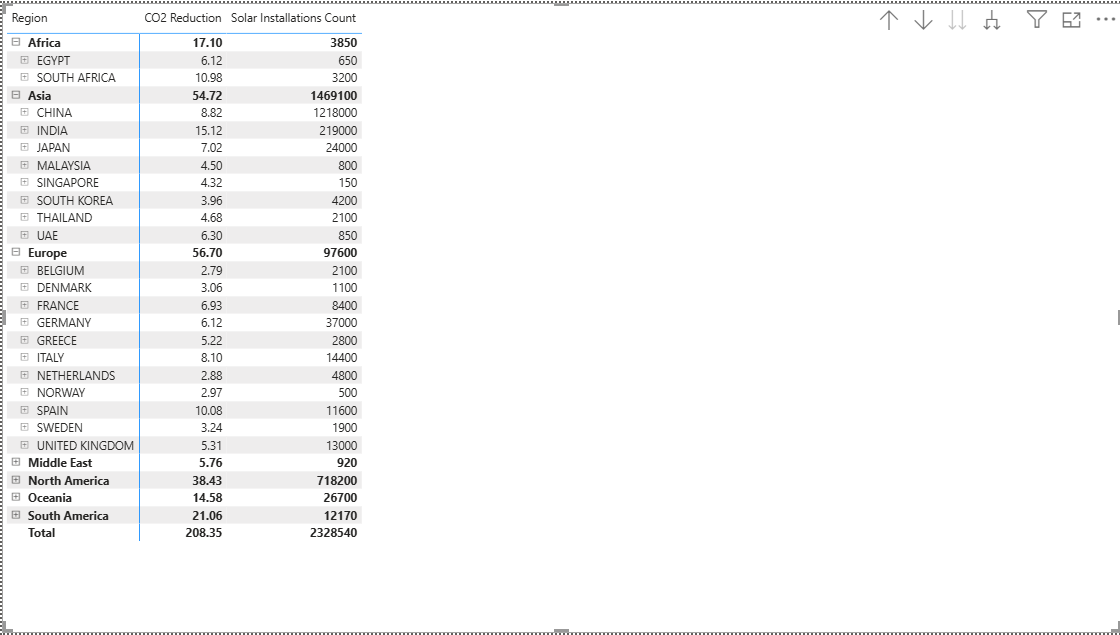

This screenshot's page, from the dashboard's own definition file:
{"tool":"powerbi","page":{"name":"Matrix Visual","canvas":[1280,720],"ordinal":3},"visuals":[{"type":"pivotTable","fields":{"Rows":["solar_project solar_energy_worldwide.Region","solar_project solar_energy_worldwide.Country","solar_project solar_energy_worldwide.City"],"Values":["Sum(solar_project solar_energy_worldwide.CO2_Reduction_Tons_per_Year)","Sum(solar_project solar_energy_worldwide.Solar_Installations_Count)"]},"box":[0,0,1280,455.7],"z":0}]}

Visuals, with their boxes on the page's 1280x720 design canvas (x1, y1, x2, y2). These are canvas units, not pixel positions in the 1120x635 screenshot, which may show the page scaled, cropped or inside an application window:
pivotTable - solar_project solar_energy_worldwide.Region x solar_project solar_energy_worldwide.Country: detection(0, 0, 1280, 456)
